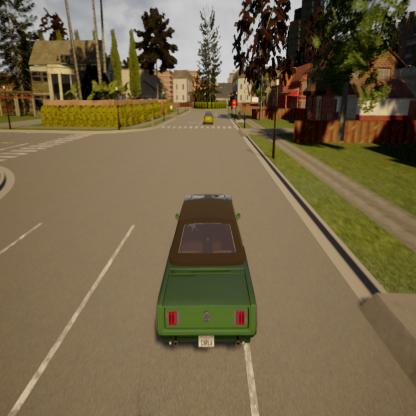Cars: (147, 184, 265, 367)
